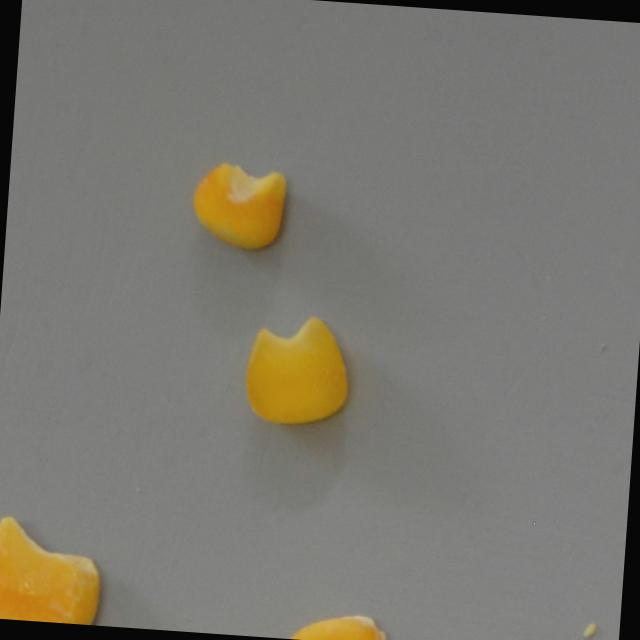no_canjicado: (241, 311, 354, 429), (0, 516, 104, 625), (188, 160, 287, 251)
pelicula: (282, 610, 396, 640)
